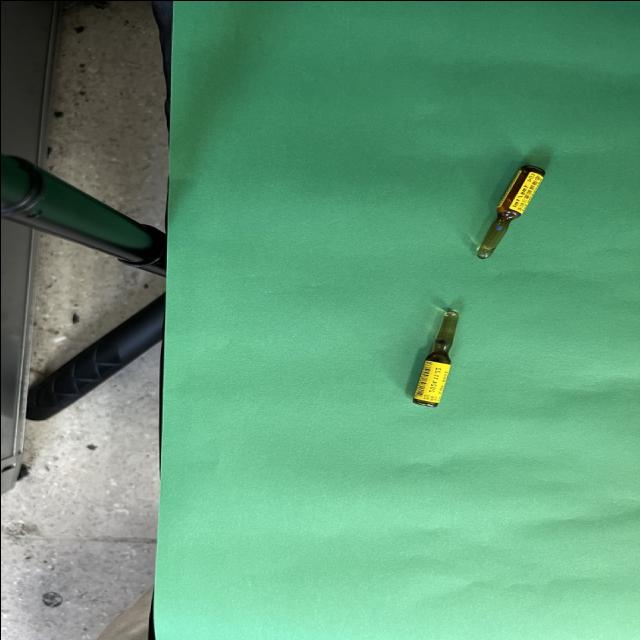Ampoules: (476, 165, 543, 258), (412, 309, 457, 406)
